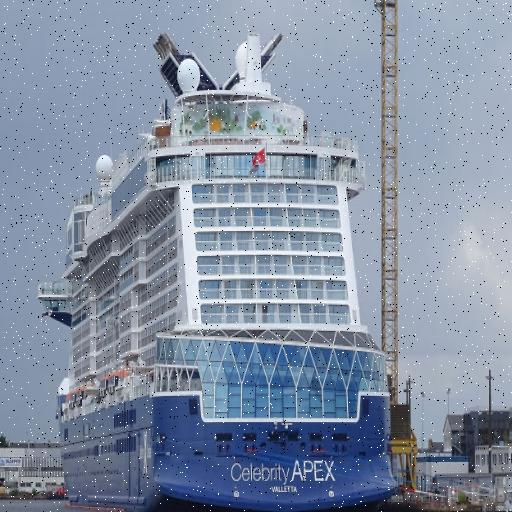cruises: (35, 21, 402, 512)
